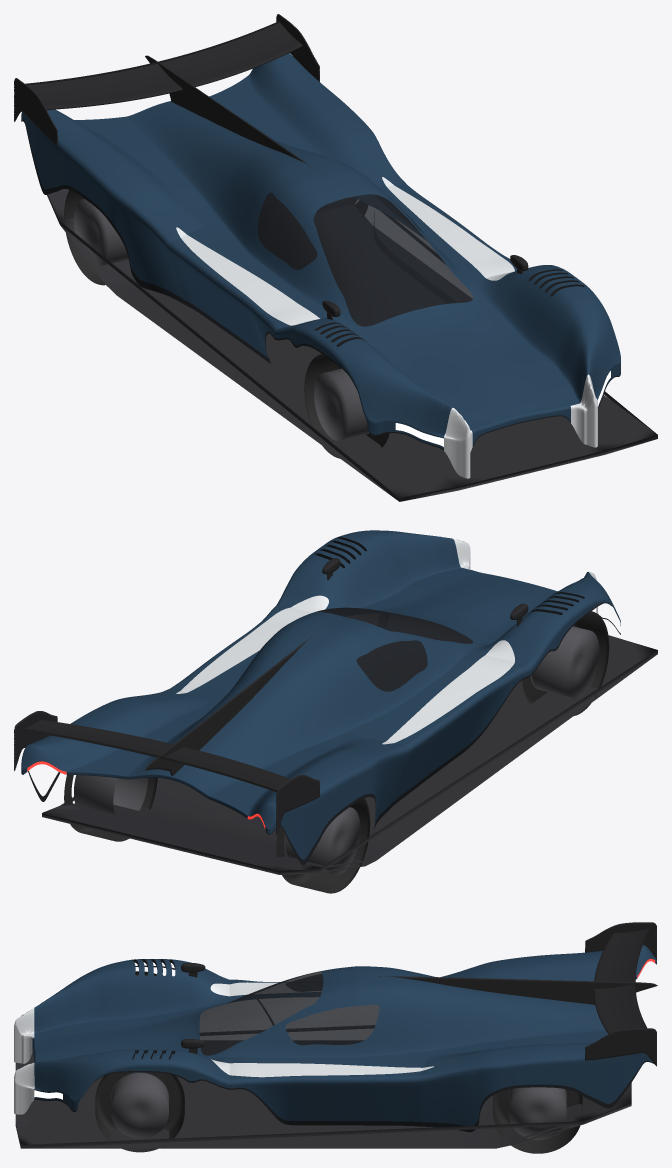
Rendered from manta_lmdh.glb.
3 views of the same model, one above another, from view 1: azimuth 30°, elevation 25°; view 2: azimuth 150°, elevation 25°; view 3: azimuth 270°, elevation 25° (orthographic). The views are drawn at different scales.
Parts seen in each view (by area): view 1: top_shell_skin, context, rear_wing, dorsal_fin, endplates, louvre_liners; view 2: top_shell_skin, context, rear_wing, dorsal_fin, endplates, louvre_liners; view 3: top_shell_skin, context, rear_wing, dorsal_fin, endplates, mirrors.
Boxes of the visible parts, x1,y1,x2,y2 form: top_shell_skin: [21, 53, 620, 478]; context: [47, 189, 657, 501]; rear_wing: [25, 21, 302, 109]; dorsal_fin: [145, 55, 312, 167]; endplates: [14, 14, 319, 146]; louvre_liners: [314, 269, 584, 346]; top_shell_skin: [21, 530, 620, 865]; context: [42, 611, 657, 893]; rear_wing: [19, 719, 290, 791]; dorsal_fin: [145, 636, 312, 775]; endplates: [14, 711, 319, 835]; louvre_liners: [314, 537, 584, 614]; top_shell_skin: [14, 945, 656, 1132]; context: [15, 971, 631, 1153]; rear_wing: [593, 927, 649, 1034]; dorsal_fin: [378, 976, 657, 1004]; endplates: [585, 922, 656, 1066]; mirrors: [181, 963, 205, 1053].
Size of the model in its own units: 2 by 1.12 by 5.1.
